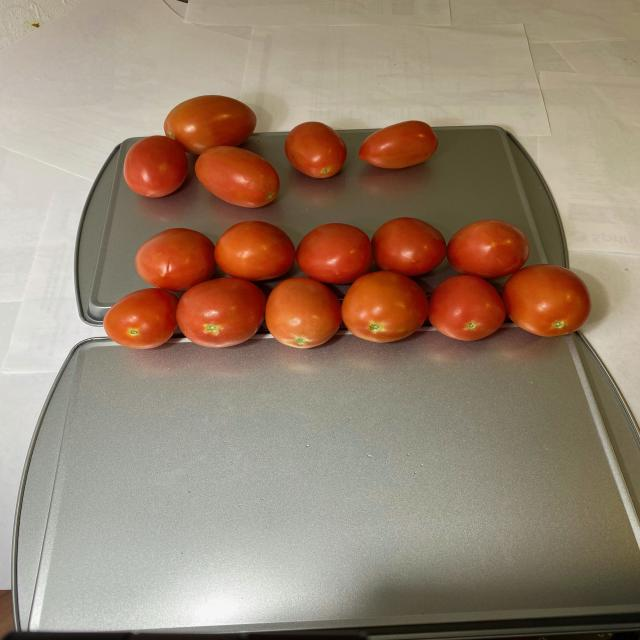tomato: (102, 222, 598, 358), (123, 88, 461, 208)
